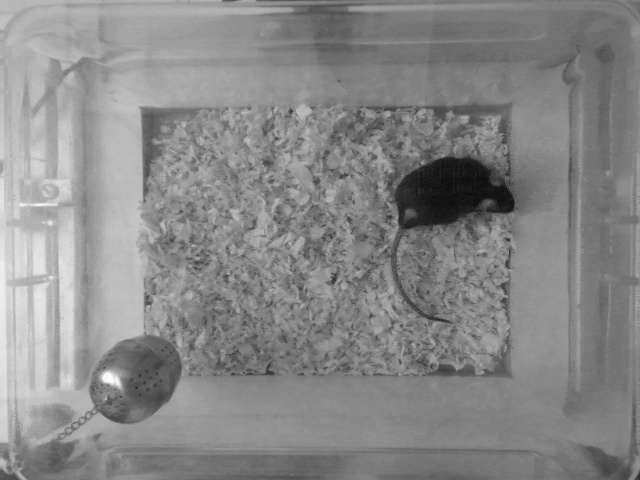mice: (390, 154, 511, 325)
